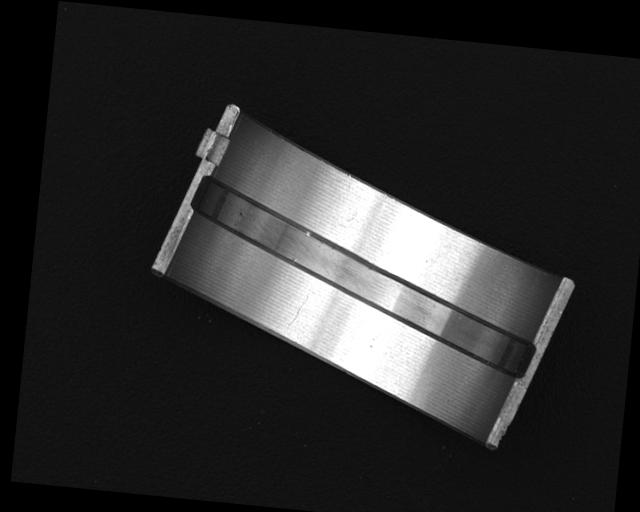gap: (177, 176, 550, 378)
nick: (286, 294, 308, 329)
